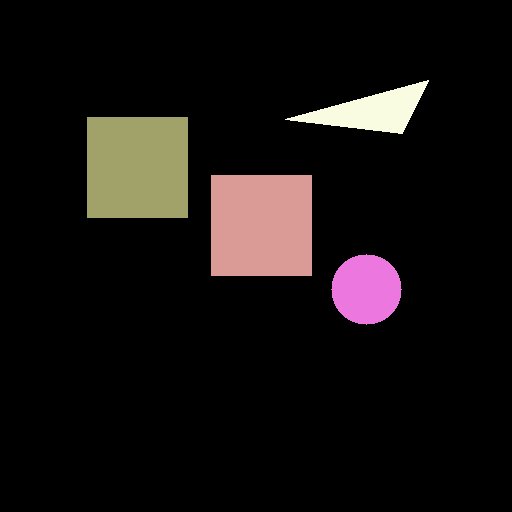circle: (331, 254, 401, 324)
square: (211, 175, 311, 275), (87, 117, 187, 217)
triangle: (285, 80, 428, 133)
